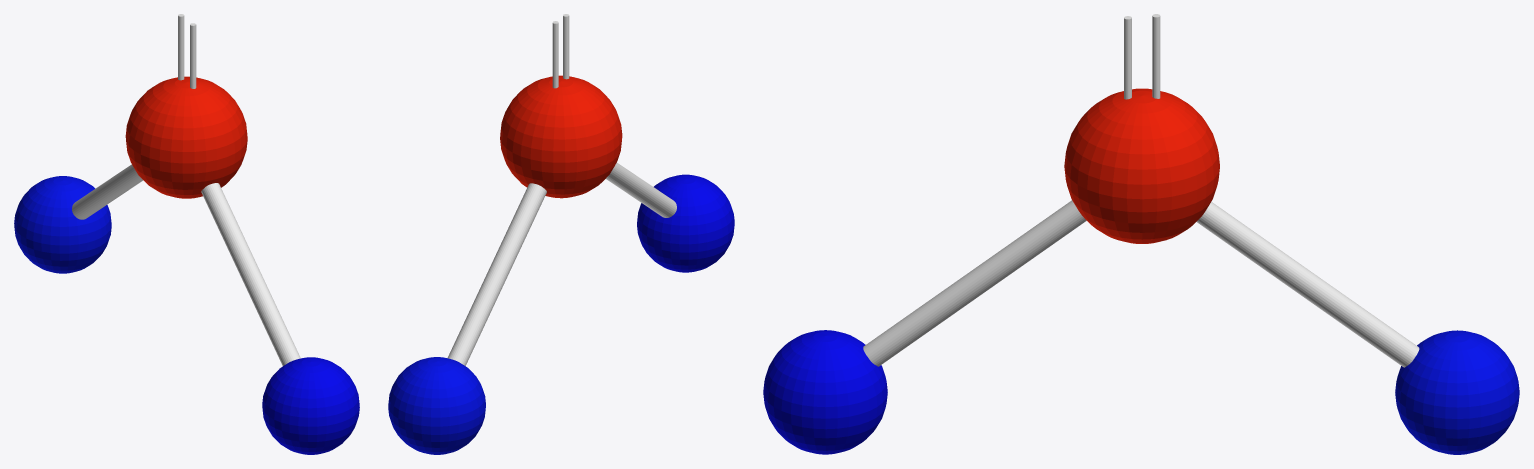
The picture shows the model from 3 angles, left to right: view 1: azimuth 30°, elevation 25°; view 2: azimuth 150°, elevation 25°; view 3: azimuth 270°, elevation 25°; orthographic projection. The views are drawn at different scales.
Visible parts, largest first — view 1: Sphere, Sphere.001, Sphere.002, Cylinder, Cylinder.001, Cylinder.003, Cylinder.002; view 2: Sphere, Sphere.002, Sphere.001, Cylinder.001, Cylinder, Cylinder.003, Cylinder.002; view 3: Sphere, Sphere.002, Sphere.001, Cylinder, Cylinder.001, Cylinder.003.
Boxes of the visible parts, x1,y1,x2,y2 form: Sphere: [125, 76, 247, 198]; Sphere.001: [262, 357, 359, 454]; Sphere.002: [14, 176, 111, 273]; Cylinder: [201, 183, 300, 365]; Cylinder.001: [72, 164, 143, 219]; Cylinder.003: [178, 14, 184, 80]; Cylinder.002: [190, 23, 196, 88]; Sphere: [500, 75, 622, 198]; Sphere.002: [388, 357, 485, 454]; Sphere.001: [637, 174, 734, 272]; Cylinder.001: [447, 183, 546, 365]; Cylinder: [606, 162, 676, 217]; Cylinder.003: [552, 21, 558, 88]; Cylinder.002: [563, 14, 569, 79]; Sphere: [1064, 88, 1219, 243]; Sphere.002: [1395, 330, 1519, 454]; Sphere.001: [763, 330, 887, 454]; Cylinder: [863, 200, 1086, 366]; Cylinder.001: [1196, 202, 1419, 367]; Cylinder.003: [1152, 14, 1160, 98].
Bounding box in the file's own units: 2 × 6.14 × 9.71.
